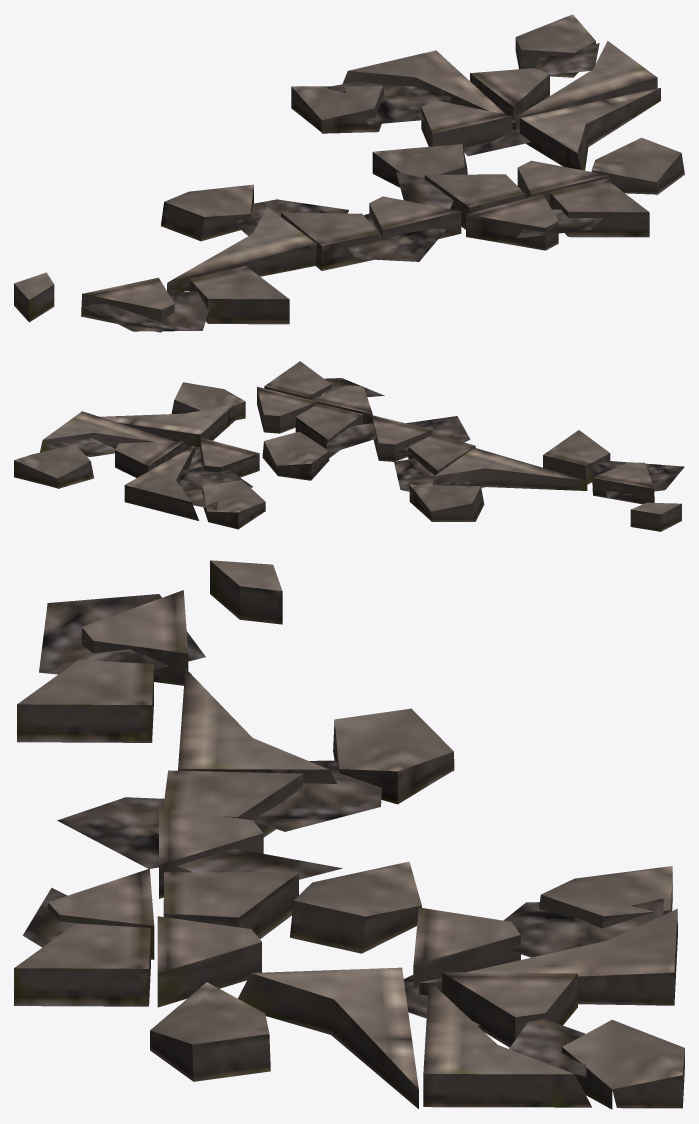
File: SM_zhucheng_Floors_Rubble04.FBX
3 views of the same model, one above another, from view 1: azimuth 30°, elevation 25°; view 2: azimuth 150°, elevation 25°; view 3: azimuth 270°, elevation 25° (orthographic). The views are drawn at different scales.
Parts seen in each view (by area): view 1: SM_zhucheng_Floors_Rubble04; view 2: SM_zhucheng_Floors_Rubble04; view 3: SM_zhucheng_Floors_Rubble04.
Boxes of the visible parts, bbox=[...] form: SM_zhucheng_Floors_Rubble04: bbox=[14, 14, 684, 332]; SM_zhucheng_Floors_Rubble04: bbox=[14, 361, 684, 531]; SM_zhucheng_Floors_Rubble04: bbox=[14, 560, 684, 1109].
Bounding box in the file's own units: 167 × 7.12 × 92.18.
